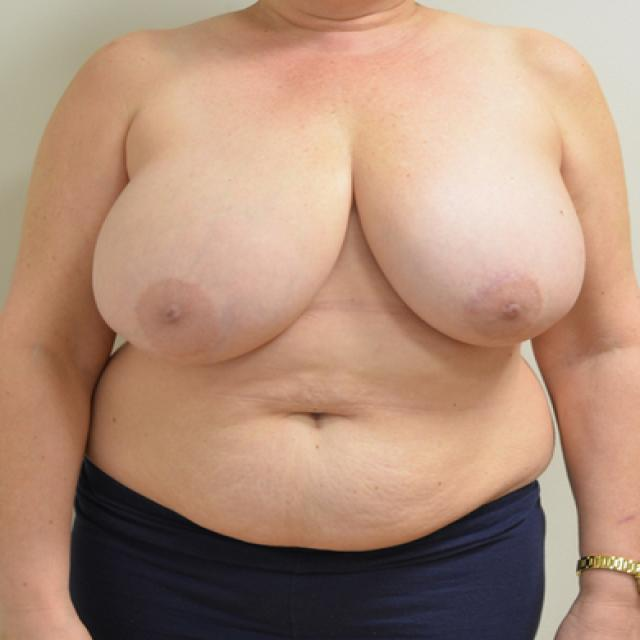Seno ileso: (84, 118, 345, 382), (356, 118, 595, 367)
